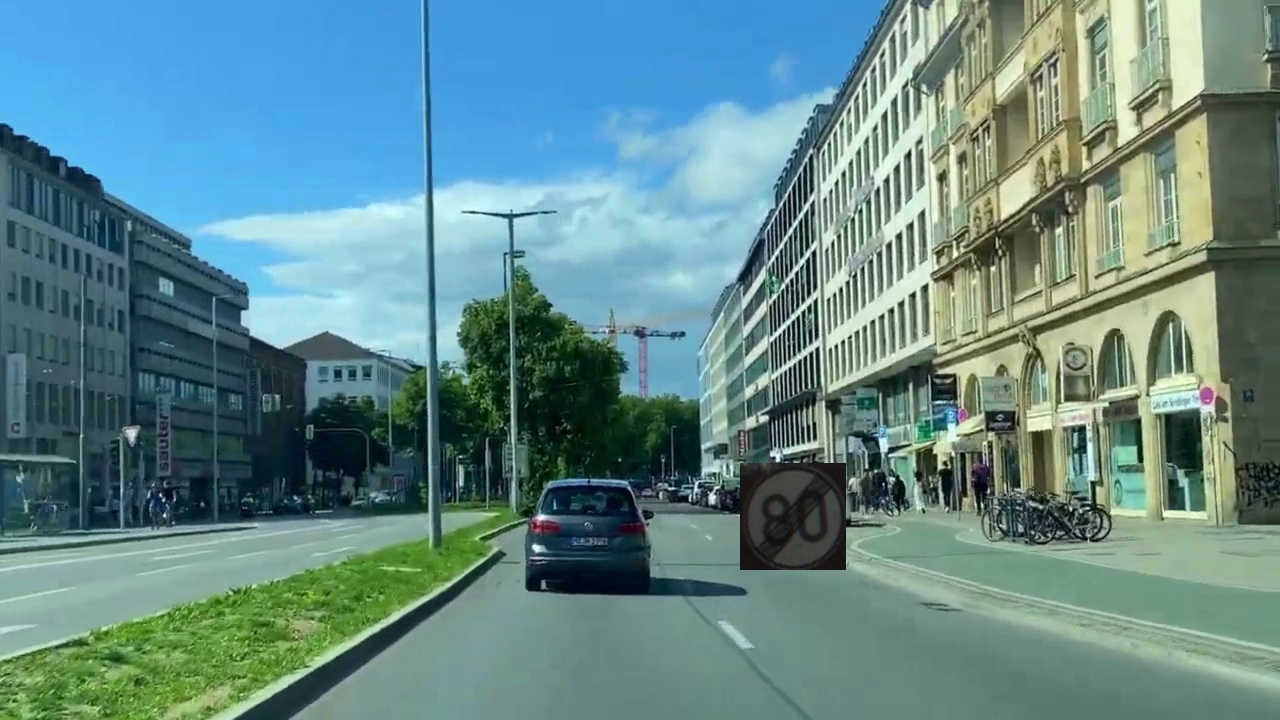End Speed 80: (740, 463, 846, 570)
